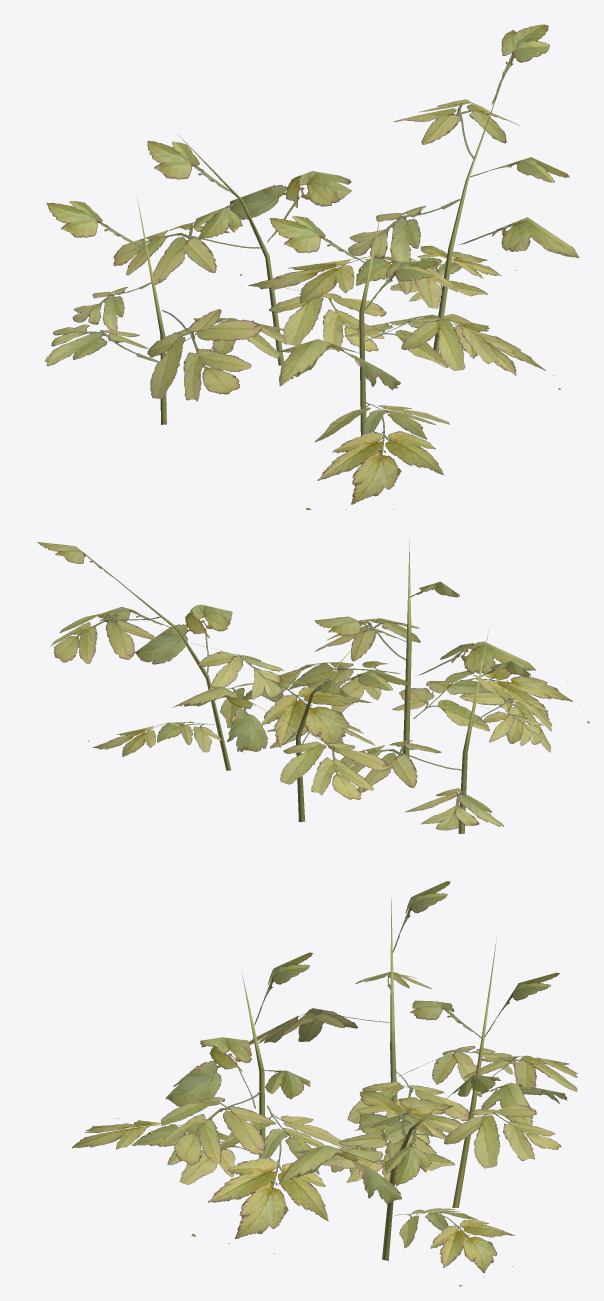
File: SM_Plant_Forest_03.fbx
The picture shows the model from 3 angles, top to bottom: view 1: azimuth 30°, elevation 25°; view 2: azimuth 150°, elevation 25°; view 3: azimuth 270°, elevation 25°; orthographic projection. The views are drawn at different scales.
Visible parts, largest first — view 1: SM_Plant_Forest_03; view 2: SM_Plant_Forest_03; view 3: SM_Plant_Forest_03.
Boxes of the visible parts, x1,y1,x2,y2 form: SM_Plant_Forest_03: [45, 24, 579, 509]; SM_Plant_Forest_03: [36, 540, 589, 833]; SM_Plant_Forest_03: [72, 881, 577, 1286].
Bounding box in the file's own units: 75.24 × 70.1 × 33.74.
1 material, 1 textured.
